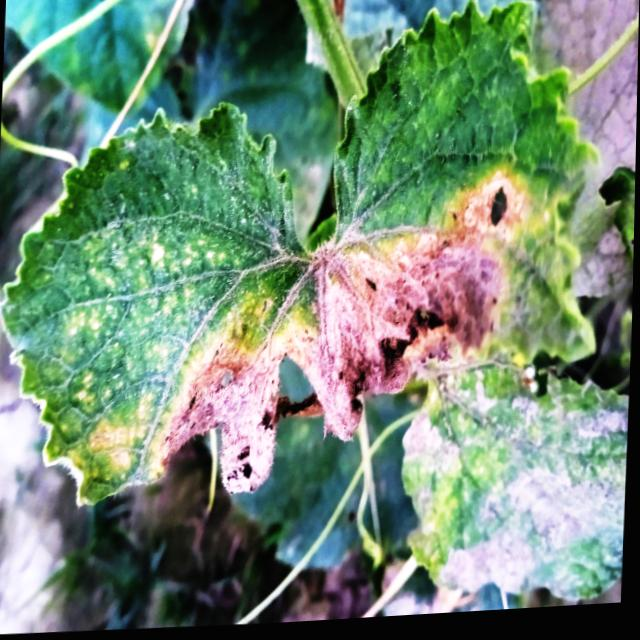Gummy-Stem-Blight: (148, 164, 524, 502)
